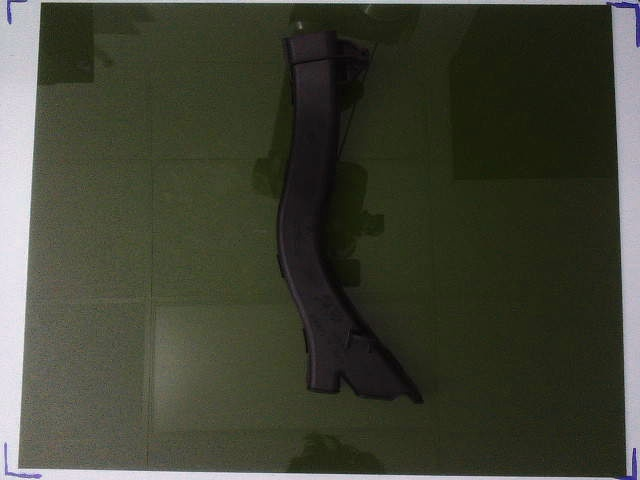887_A-Top: (277, 30, 425, 404)
